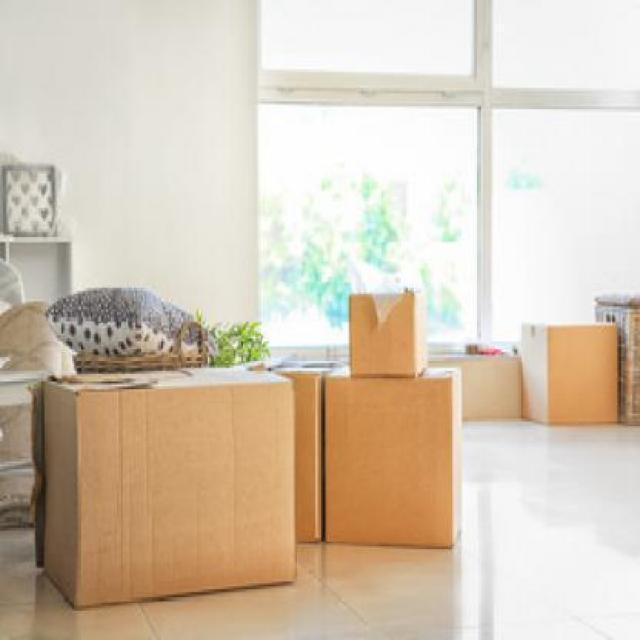box: (38, 370, 303, 611), (322, 368, 475, 556), (522, 321, 624, 427), (351, 296, 437, 377)
